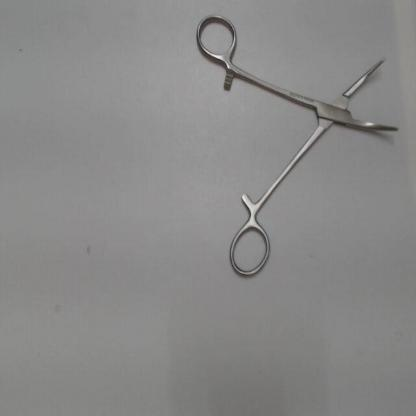Crile Artery Forceps: (192, 9, 403, 282)
